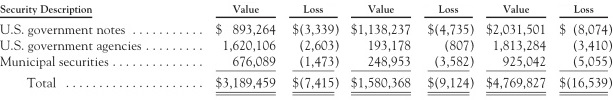column: (1, 1, 203, 100), (215, 1, 277, 100), (486, 1, 547, 100), (351, 1, 411, 100), (558, 1, 613, 100), (425, 1, 475, 100), (292, 1, 340, 100)
row: (1, 76, 613, 89), (1, 23, 613, 35), (1, 39, 613, 51), (1, 3, 613, 14), (1, 56, 613, 67)
